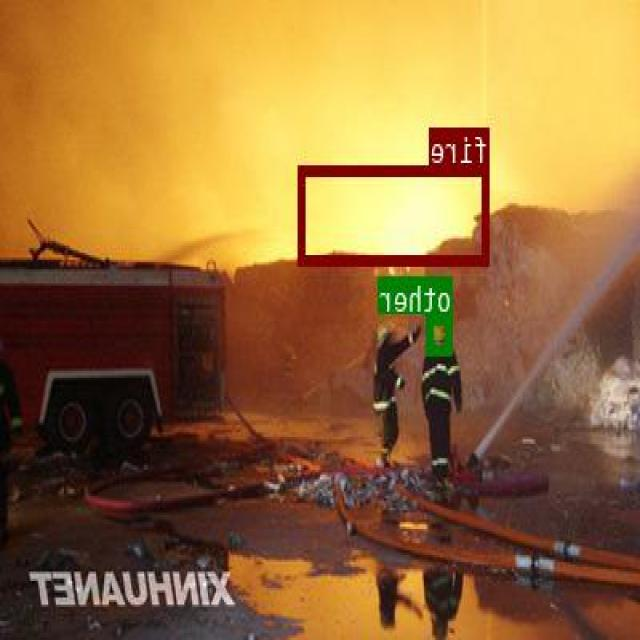fire: (300, 163, 490, 263)
other: (428, 313, 454, 354)
